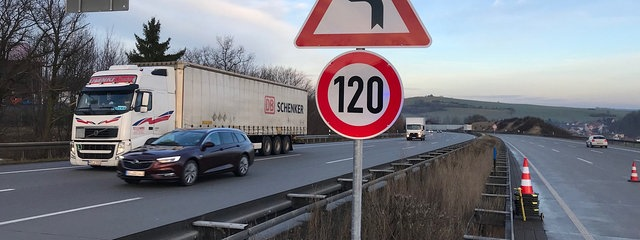Speed_limit_120km: (315, 51, 404, 140)
